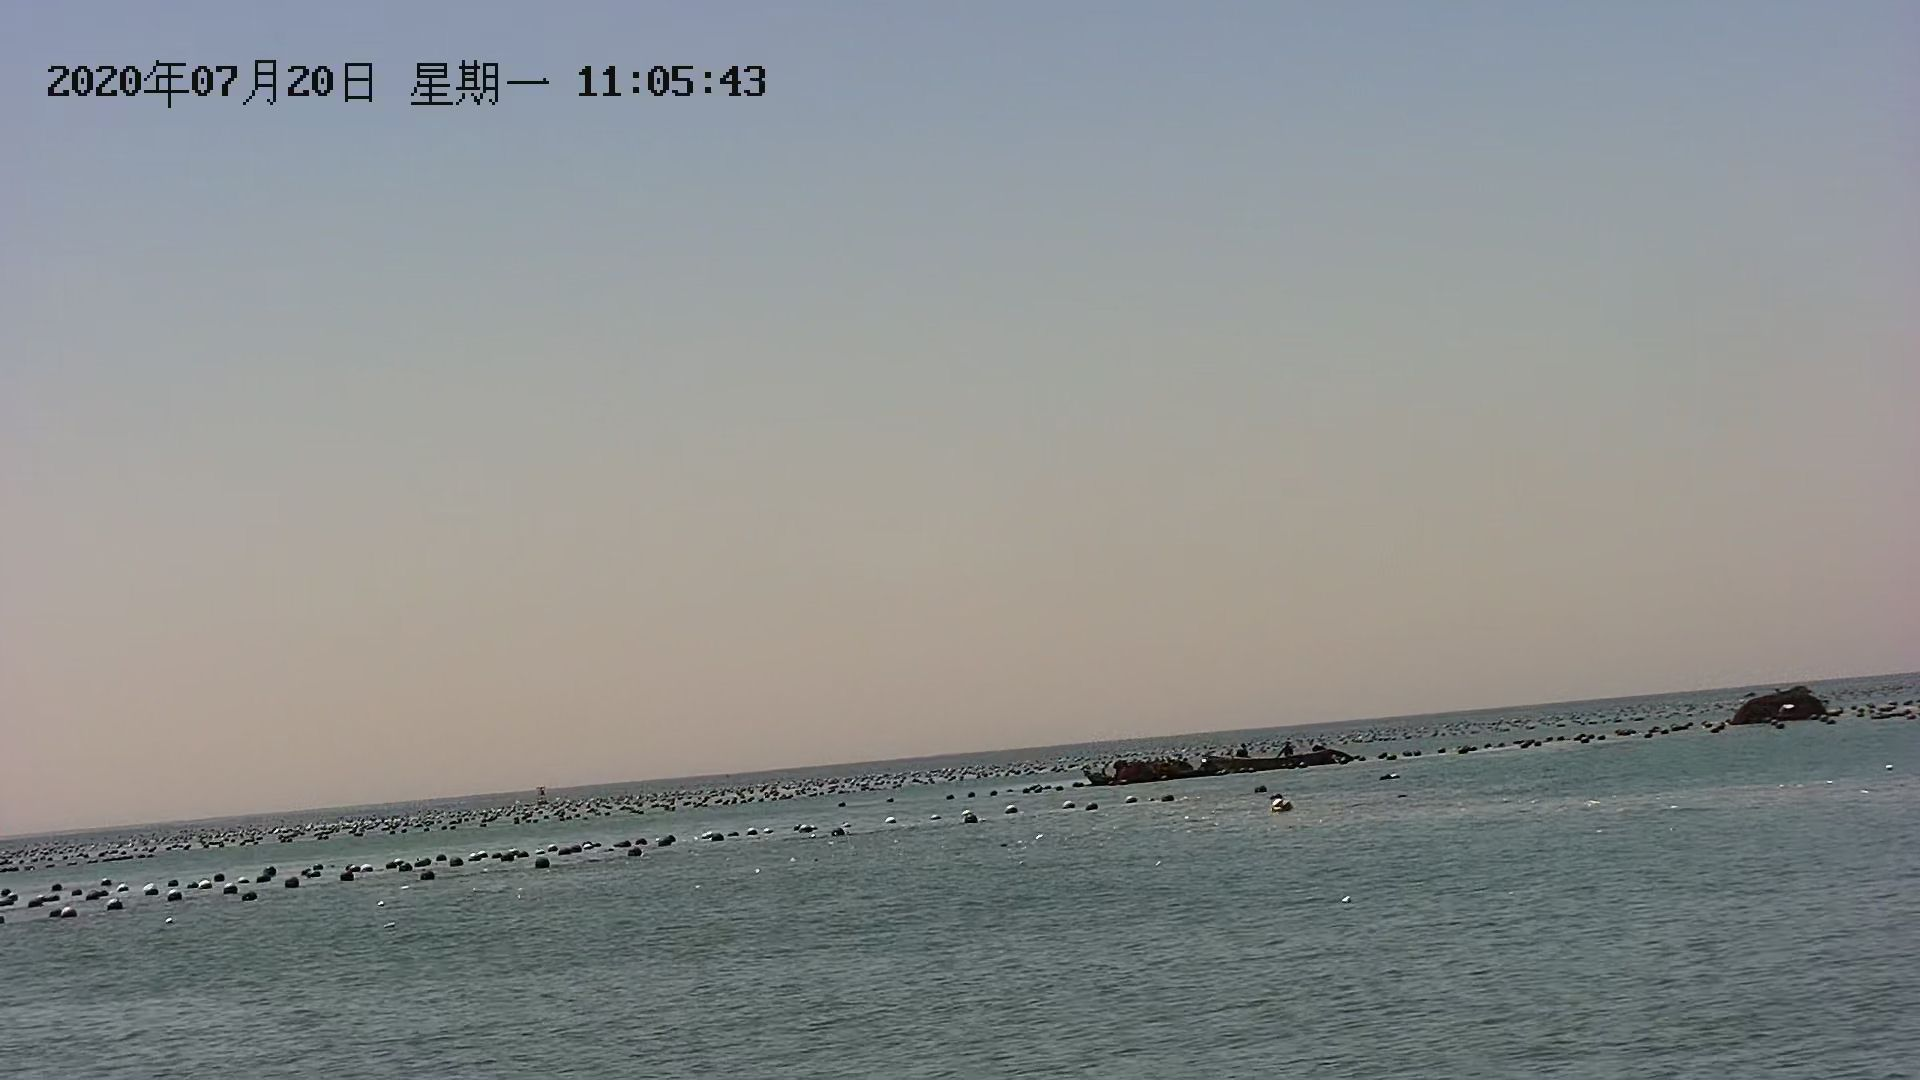rock: (1084, 746, 1358, 783), (1731, 679, 1834, 736)
